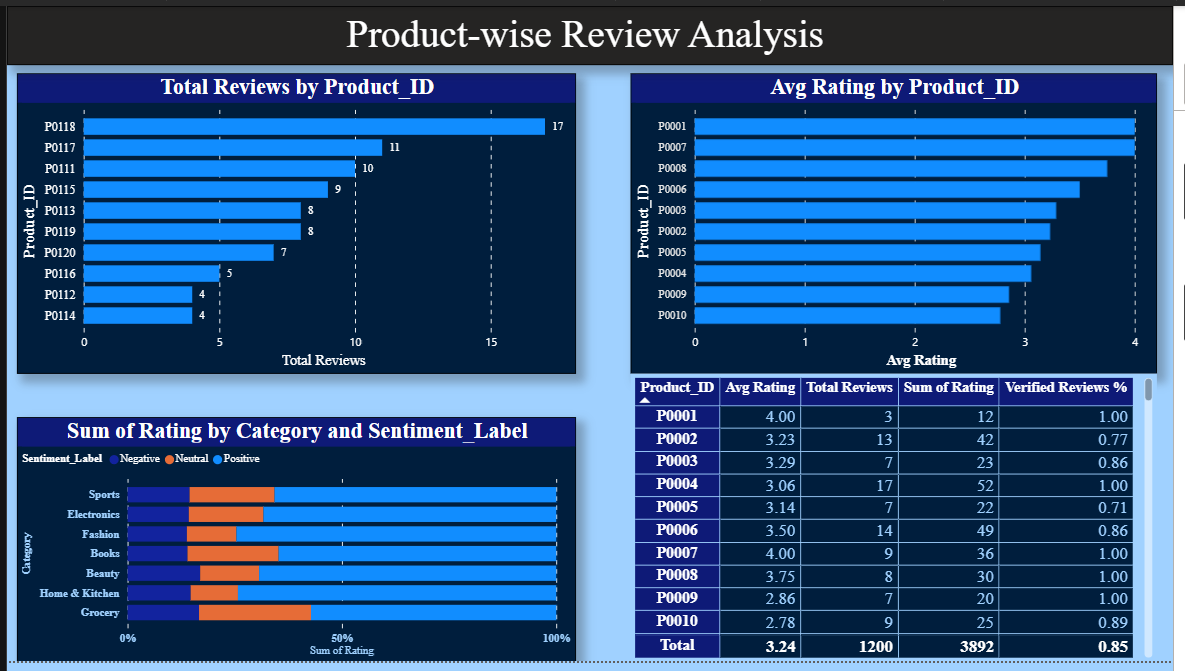

This screenshot's page, from the dashboard's own definition file:
{"tool":"powerbi","page":{"name":"Page 3","canvas":[1280,720],"ordinal":2},"visuals":[{"type":"clusteredBarChart","fields":{"Y":["Orders.Total Reviews"],"Category":["Products.Product_ID"]},"box":[11,74.1,613.4,329.3],"z":0},{"type":"hundredPercentStackedBarChart","fields":{"Category":["Products.Category"],"Series":["Reviews.Sentiment_Label"],"Y":["Sum(Reviews.Rating)"]},"box":[11,451.5,613.4,269],"z":1000},{"type":"clusteredBarChart","fields":{"Category":["Products.Product_ID"],"Y":["Orders.Avg Rating"]},"box":[684.7,74.1,577.7,329.3],"z":2000},{"type":"pivotTable","fields":{"Rows":["Products.Product_ID"],"Values":["Orders.Avg Rating","Orders.Total Reviews","Sum(Reviews.Rating)","Orders.Verified Reviews %"]},"box":[684.7,403.4,577.7,317],"z":3000},{"type":"textbox","box":[0,0,1280.3,64.5],"z":4000}]}

Visuals, with their boxes in screenshot pixels (x1, y1, x2, y2), scaled from the page's 1280x720 canvas onto the 1185x671 screenshot:
clusteredBarChart - Orders.Total Reviews x Products.Product_ID: locate(10, 69, 578, 376)
hundredPercentStackedBarChart - Products.Category x Reviews.Sentiment_Label: locate(10, 421, 578, 670)
clusteredBarChart - Products.Product_ID x Orders.Avg Rating: locate(634, 69, 1169, 376)
pivotTable - Products.Product_ID x Orders.Avg Rating: locate(634, 376, 1169, 670)
textbox: locate(0, 0, 1184, 60)
